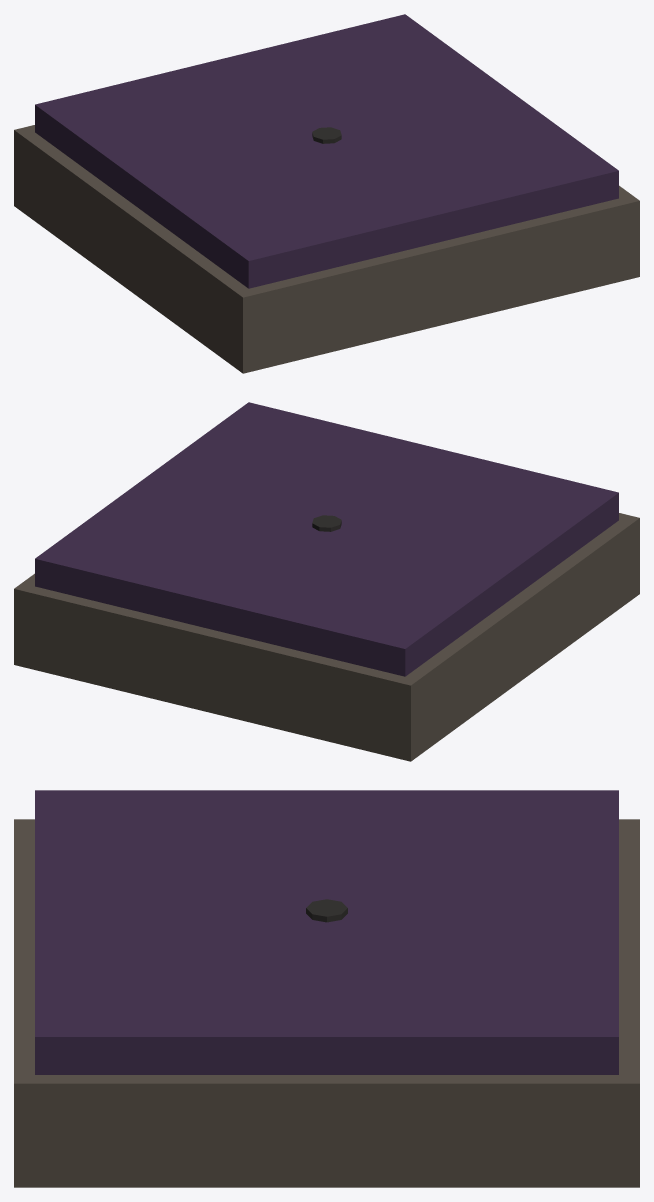
Rendered from floor-cushion.glb.
3 views of the same model, one above another, from view 1: azimuth 30°, elevation 25°; view 2: azimuth 150°, elevation 25°; view 3: azimuth 270°, elevation 25° (orthographic). The views are drawn at different scales.
Parts seen in each view (by area): view 1: accent-purple, fabric; view 2: accent-purple, fabric; view 3: accent-purple, fabric, plastic-dark.
Boxes of the visible parts, left/top/right/bottom form: accent-purple: left=35, top=14, right=618, bottom=288; fabric: left=14, top=125, right=639, bottom=373; accent-purple: left=35, top=402, right=618, bottom=676; fabric: left=14, top=513, right=639, bottom=761; accent-purple: left=35, top=790, right=618, bottom=1074; fabric: left=14, top=819, right=639, bottom=1187; plastic-dark: left=306, top=899, right=347, bottom=922.
Size of the model in its own units: 0.6 by 0.156 by 0.6.
